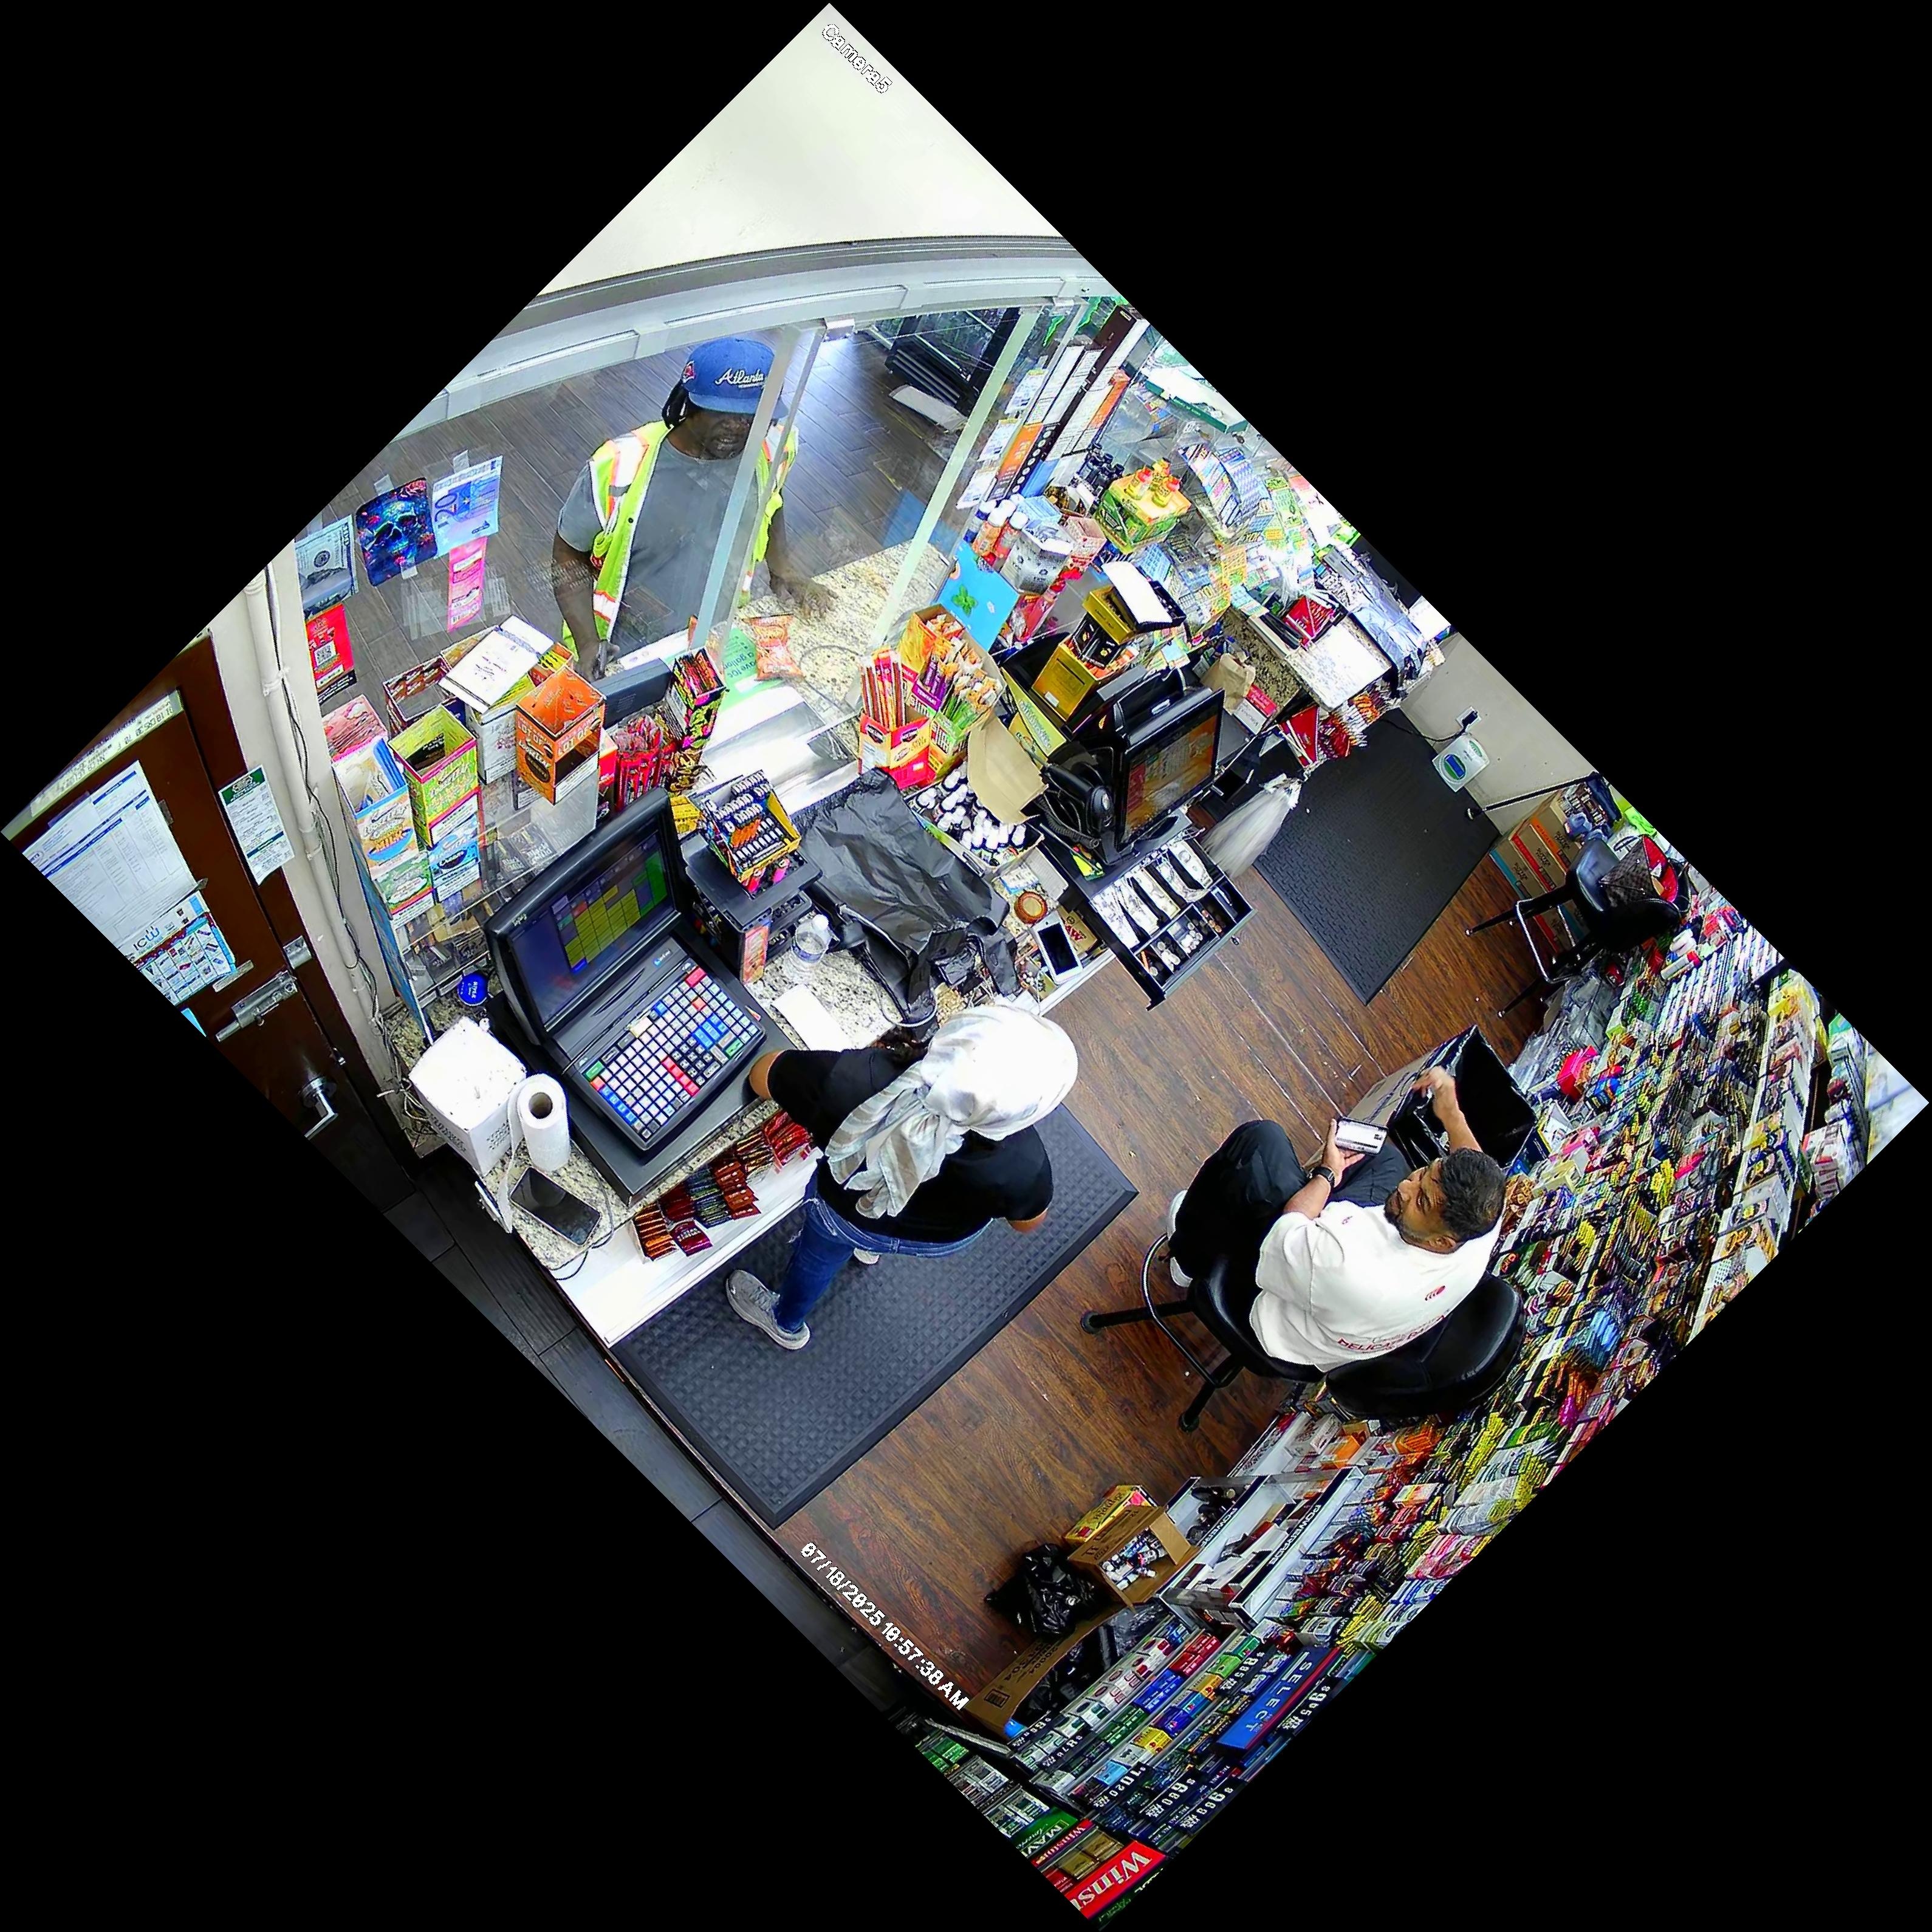phone: (1323, 1102, 1394, 1171), (577, 648, 625, 690)
